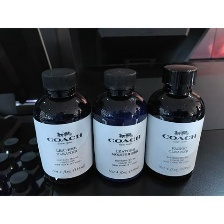cleaning_solution: (30, 66, 100, 194), (138, 61, 207, 190), (87, 64, 151, 191)
